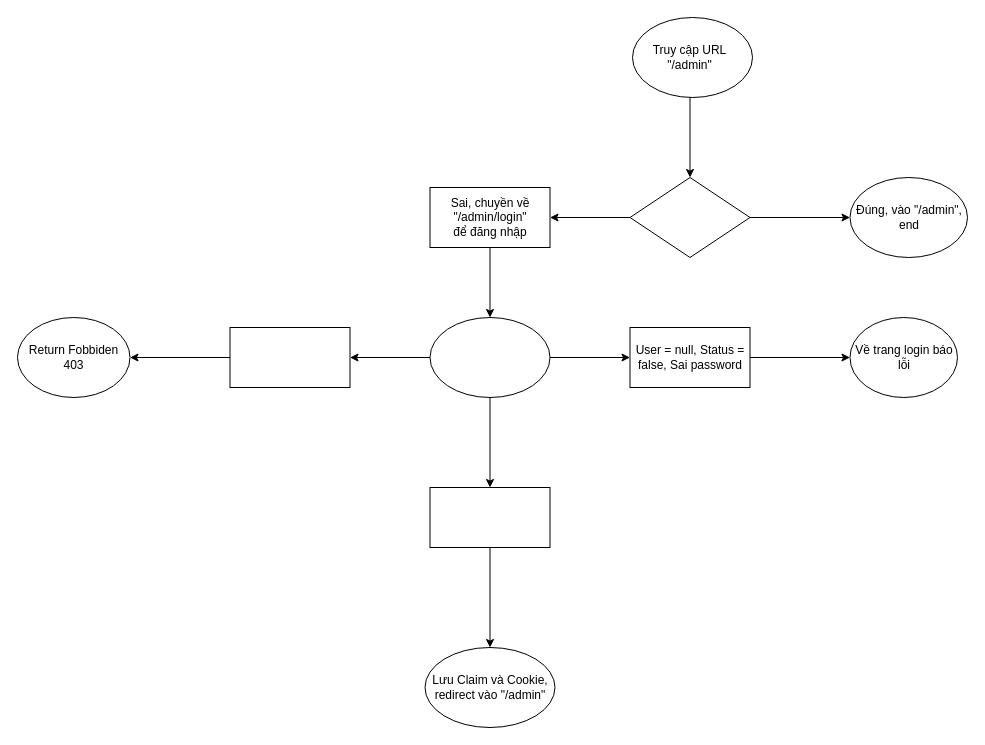
Image size: 985x745. Some labels were removed from this diagram. Here are the shapes that lost their labels. From the top down, the centre of each, then its label:
(689,217): User có Claim, Role = "Admin"
(289,357): Role != Admin
(489,357): Điền form login và submit
(489,517): Đúng cả 3 điều kiện
